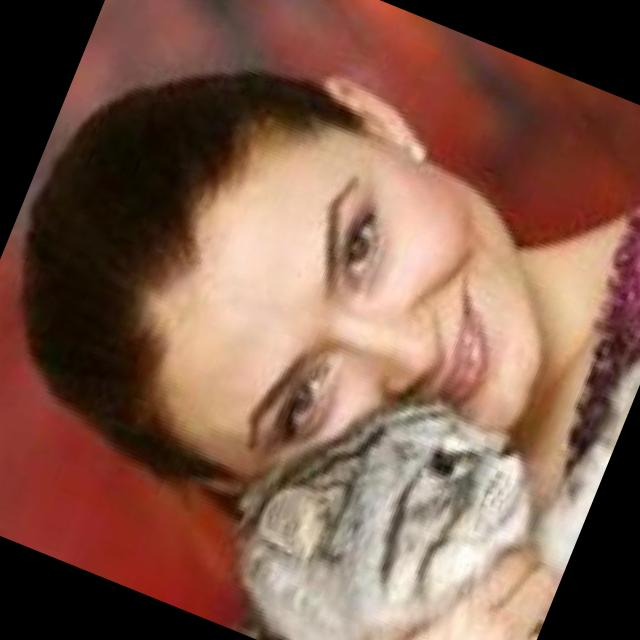bareface: (27, 30, 612, 572)
